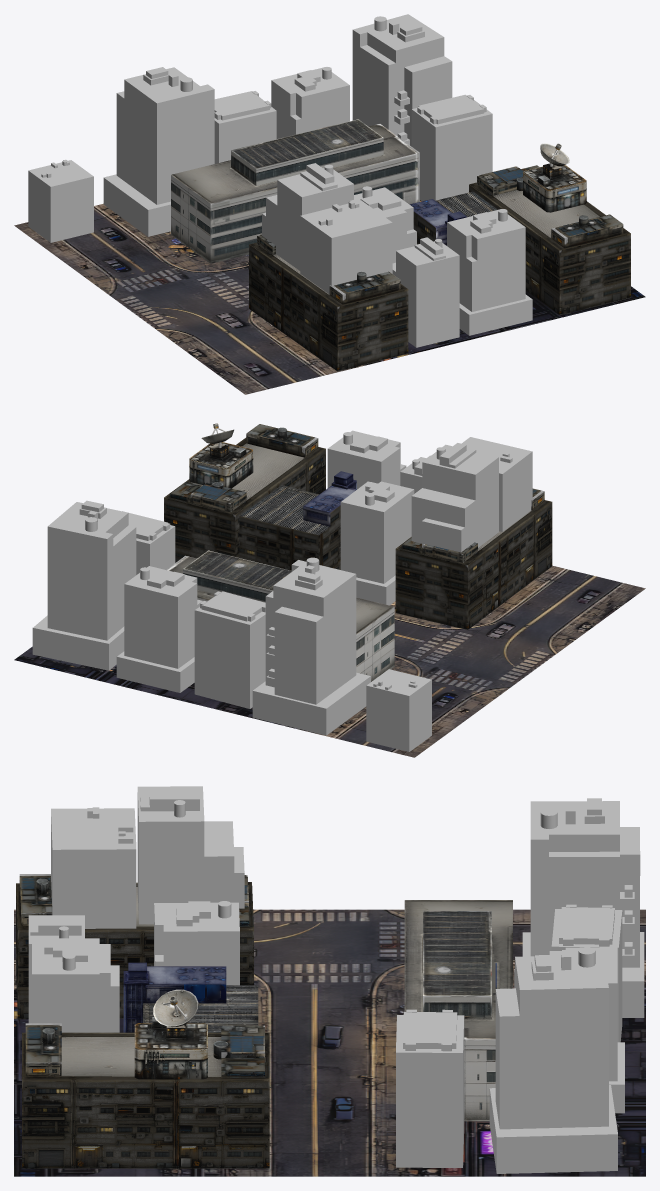
File: CP_Slums_Pack_100x100_01.fbx
The picture shows the model from 3 angles, top to bottom: view 1: azimuth 30°, elevation 25°; view 2: azimuth 150°, elevation 25°; view 3: azimuth 270°, elevation 25°; orthographic projection. The views are drawn at different scales.
Parts seen in each view (by area): view 1: CP_Slums_Pack_100x100_01; view 2: CP_Slums_Pack_100x100_01; view 3: CP_Slums_Pack_100x100_01.
Part boxes in pixels (left/top/right/bottom): CP_Slums_Pack_100x100_01: left=14, top=14, right=645, bottom=394; CP_Slums_Pack_100x100_01: left=14, top=423, right=645, bottom=757; CP_Slums_Pack_100x100_01: left=14, top=786, right=645, bottom=1176.
Bounding box in the file's own units: 10000 × 3547 × 10000.
